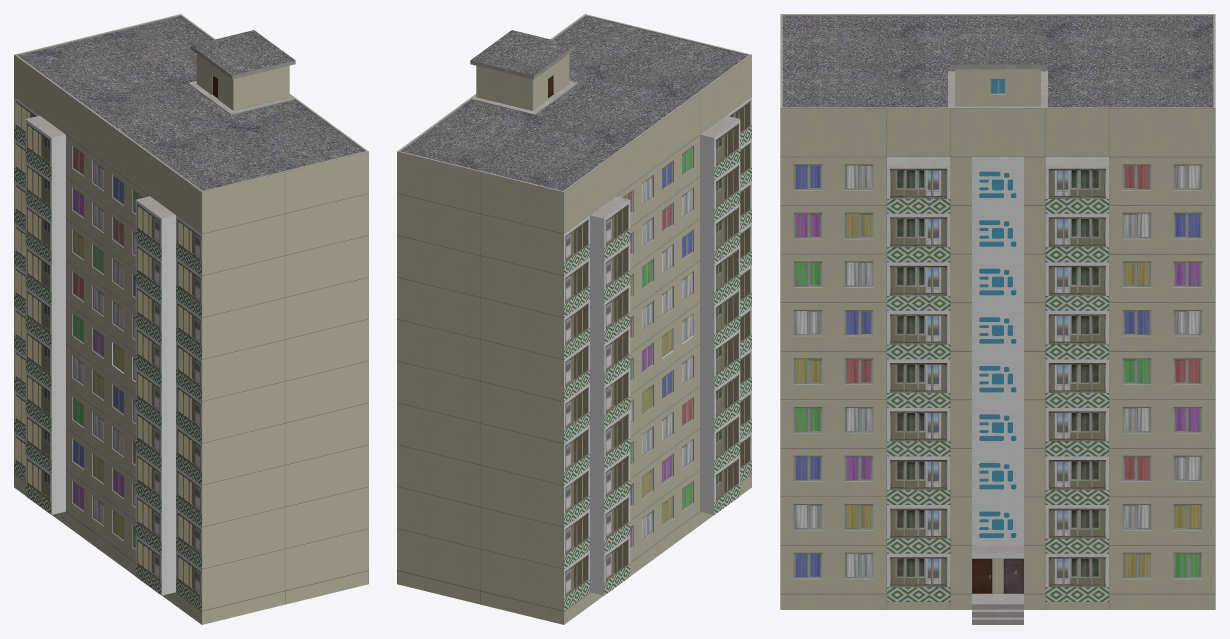
File: pivdennyy_city_9-floor_panel_building.glb
3 renders of one model, left to right at view 1: azimuth 30°, elevation 25°; view 2: azimuth 150°, elevation 25°; view 3: azimuth 270°, elevation 25°, orthographic. The views are drawn at different scales.
Visible parts, largest first — view 1: Cube_building_0, Cube_windows_0, Cube_interior_0; view 2: Cube_building_0, Cube_windows_0, Cube_interior_0; view 3: Cube_building_0, Cube_windows_0, Cube_interior_0.
Boxes of the visible parts, x1,y1,x2,y2 form: Cube_building_0: (14,14,368,624); Cube_windows_0: (15,101,200,596); Cube_interior_0: (73,147,142,546); Cube_building_0: (397,14,751,624); Cube_windows_0: (565,101,750,596); Cube_interior_0: (623,147,692,546); Cube_building_0: (780,14,1215,624); Cube_windows_0: (793,79,1202,587); Cube_interior_0: (796,165,1199,576).
Size of the model in its own units: 15.17 by 32.79 by 23.74.
Materials: 3 (3 with a texture image).
